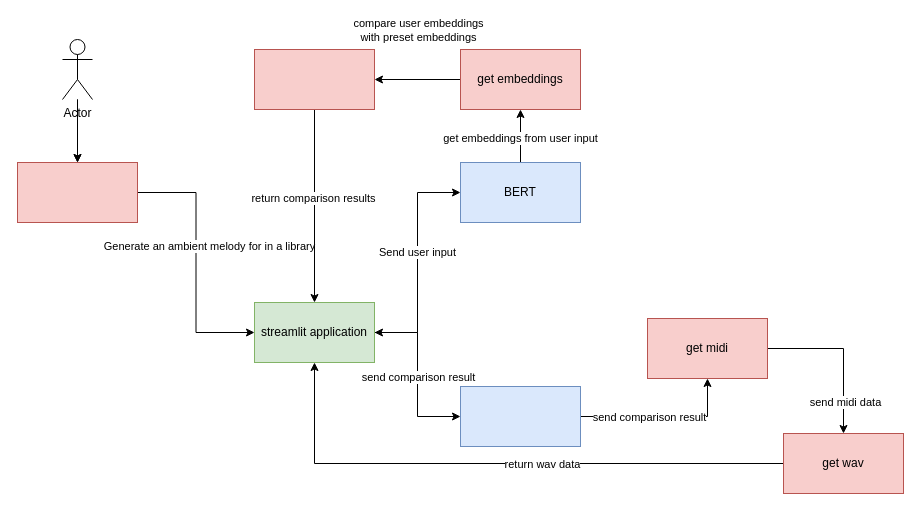
The diagram is 921 pixels wide and 511 high, and some of its shapes have lost their labels. Here are the shapes that lost their labels. From the top down, the centre of each, then its label:
At (x=314, y=79): "compare & closest".
At (x=77, y=192): "User Input".
At (x=520, y=416): "Magenta/MusicVae".
